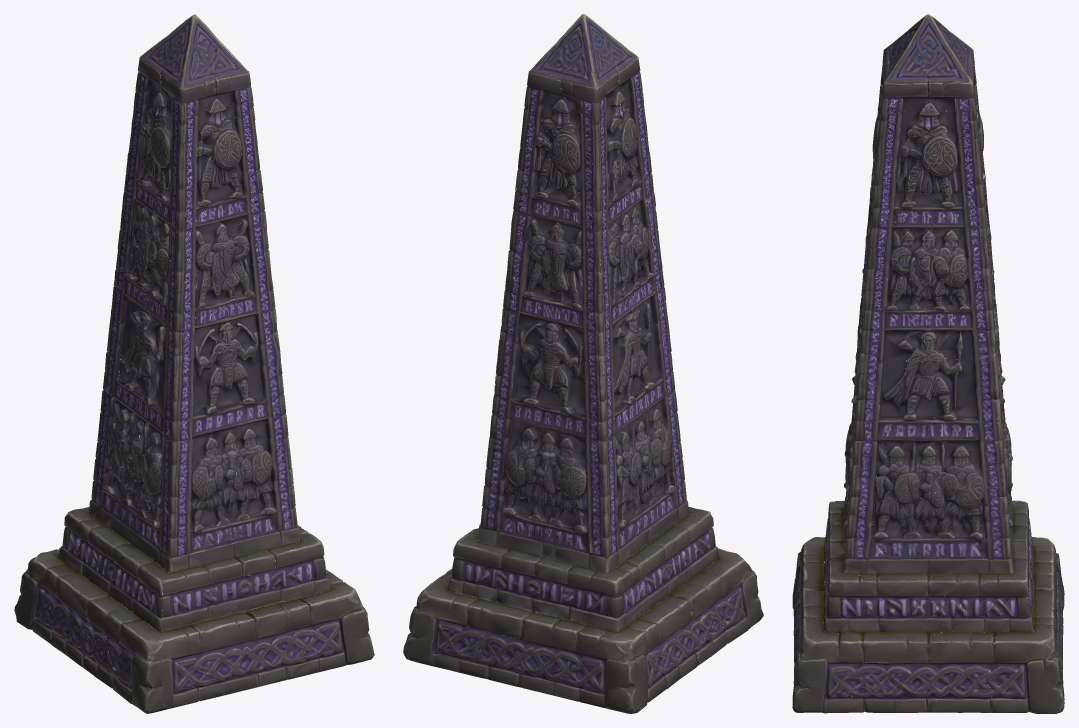
The model's file is marker-obelisk-tripo.glb.
3 renders of one model, left to right at view 1: azimuth 30°, elevation 25°; view 2: azimuth 150°, elevation 25°; view 3: azimuth 270°, elevation 25°, orthographic. The views are drawn at different scales.
Visible parts, largest first — view 1: tripo_node_ba59388f-575d-4f35-8571-1efd9c7c5d2c; view 2: tripo_node_ba59388f-575d-4f35-8571-1efd9c7c5d2c; view 3: tripo_node_ba59388f-575d-4f35-8571-1efd9c7c5d2c.
Boxes of the visible parts, <box> form: tripo_node_ba59388f-575d-4f35-8571-1efd9c7c5d2c: <box>14,14,374,713</box>; tripo_node_ba59388f-575d-4f35-8571-1efd9c7c5d2c: <box>403,14,763,713</box>; tripo_node_ba59388f-575d-4f35-8571-1efd9c7c5d2c: <box>792,14,1064,713</box>.
Bounding box in the file's own units: 0.3879 × 1 × 0.3842.
Materials: 1 (1 with a texture image).
